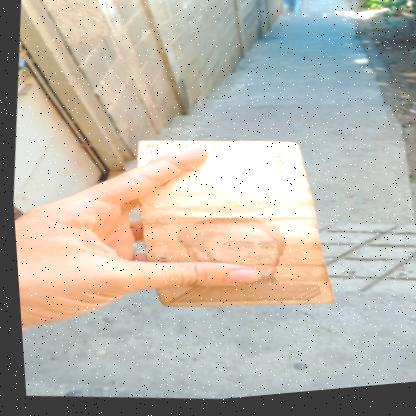vef_front: (117, 127, 347, 329)
